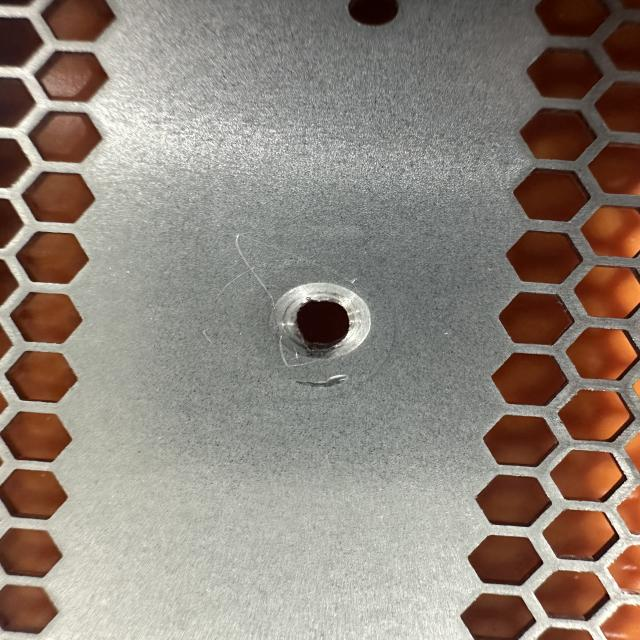Missing screw: (257, 274, 382, 370)
